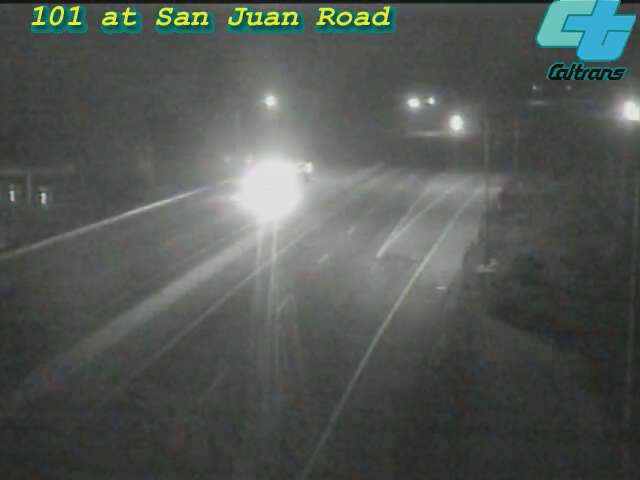vehicle: (224, 146, 304, 226), (430, 99, 480, 149), (605, 86, 640, 136)
